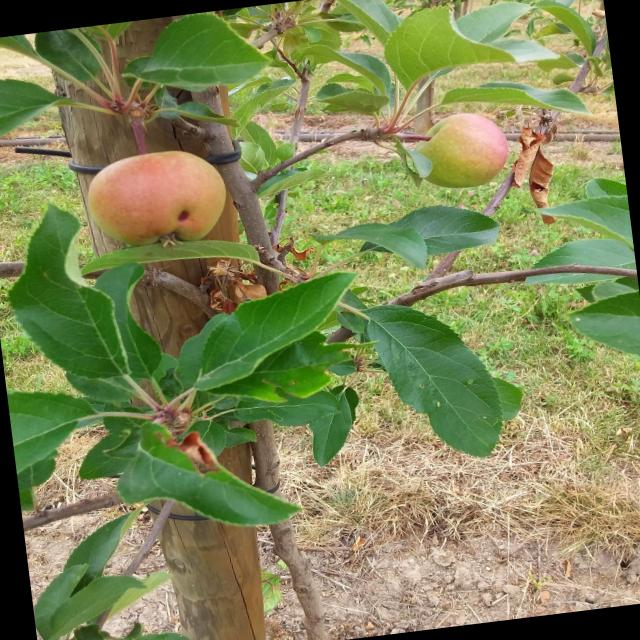-FireBlight-: (511, 116, 562, 224)
